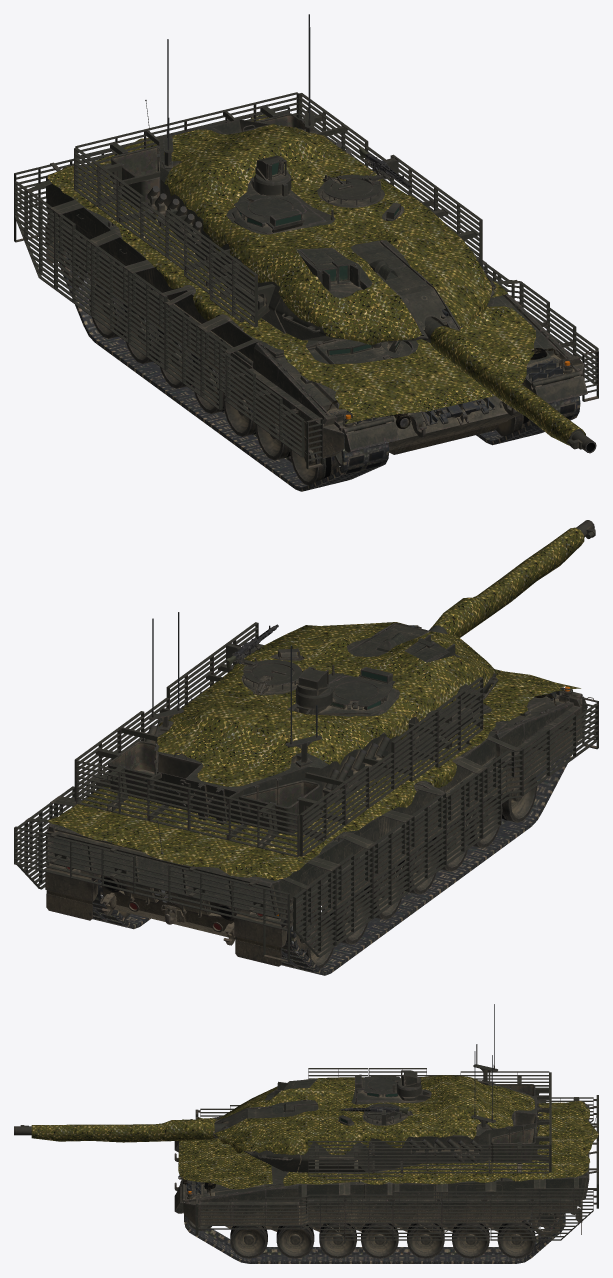
The model's file is leopard_2a6m_can__mwt_tank_battles.glb.
The picture shows the model from 3 angles, top to bottom: view 1: azimuth 30°, elevation 25°; view 2: azimuth 150°, elevation 25°; view 3: azimuth 270°, elevation 25°; orthographic projection. The views are drawn at different scales.
Visible parts, largest first — view 1: Object_11, Object_4, Object_6, Object_9, Object_7, Object_10, Object_5, Object_8, Object_2; view 2: Object_11, Object_4, Object_6, Object_9, Object_7, Object_10, Object_5, Object_2, Object_8; view 3: Object_11, Object_7, Object_4, Object_5, Object_9, Object_6, Object_10, Object_2, Object_8.
Boxes of the visible parts, box(x1,y1,x2,y2) form: Object_11: box(47, 114, 585, 445); Object_4: box(14, 92, 530, 460); Object_6: box(45, 100, 587, 454); Object_9: box(111, 14, 496, 341); Object_7: box(14, 106, 598, 469); Object_10: box(58, 242, 580, 491); Object_5: box(253, 293, 584, 485); Object_8: box(166, 39, 393, 290); Object_2: box(111, 115, 305, 209); Object_11: box(48, 527, 584, 880); Object_4: box(74, 622, 549, 968); Object_6: box(45, 686, 587, 966); Object_9: box(108, 612, 498, 834); Object_7: box(14, 520, 598, 962); Object_10: box(91, 742, 577, 975); Object_5: box(47, 696, 582, 918); Object_2: box(108, 743, 319, 834); Object_8: box(229, 634, 455, 744); Object_11: box(31, 1075, 598, 1189); Object_7: box(14, 1095, 598, 1240); Object_4: box(187, 1068, 596, 1258); Object_5: box(183, 1105, 577, 1258); Object_9: box(214, 1044, 542, 1172); Object_6: box(174, 1103, 598, 1234); Object_10: box(184, 1202, 565, 1263); Object_2: box(491, 1085, 535, 1161); Object_8: box(274, 1004, 494, 1118).
Size of the model in its own units: 4.16 by 4.04 by 10.65.
6 materials, 6 textured.
